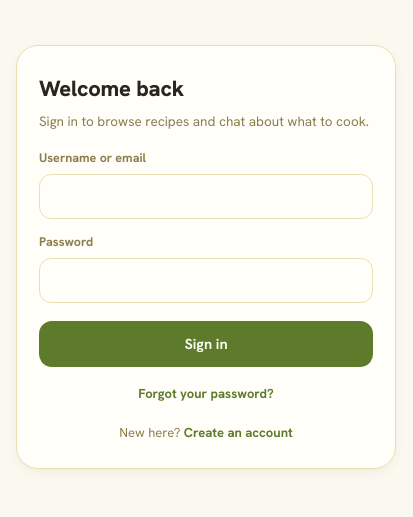
Scenario: LoginPage › shows invalid-credentials on a 401 without clearing the session/redirecting
Type "alice" into the field labelled "Username or email". click: point(206, 196)
box: x1=39 y1=174 x2=373 y2=219
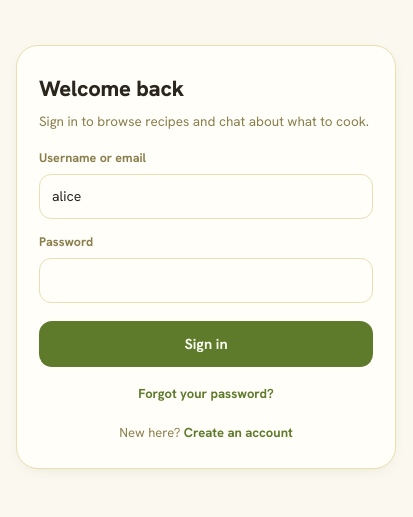
Type "wrongpassword" into the password field labelled "Password". click: point(206, 280)
box: x1=39 y1=258 x2=373 y2=303
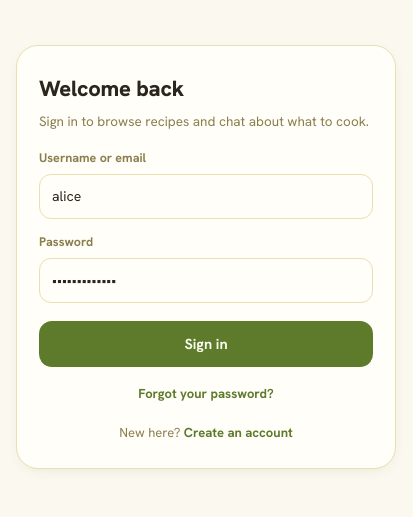
Click the button "Sign in". click: point(206, 344)
box: x1=39 y1=321 x2=373 y2=367
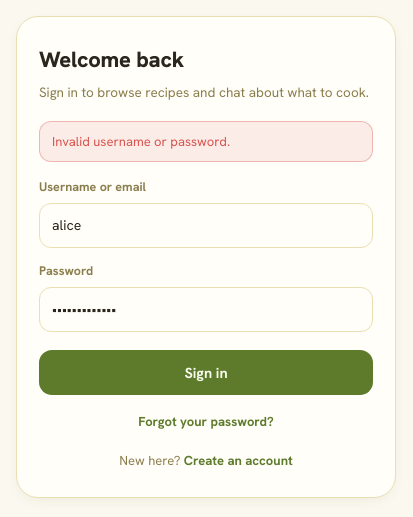
Result: the text "Invalid username or password." is shown at x1=39 y1=120 x2=373 y2=162
